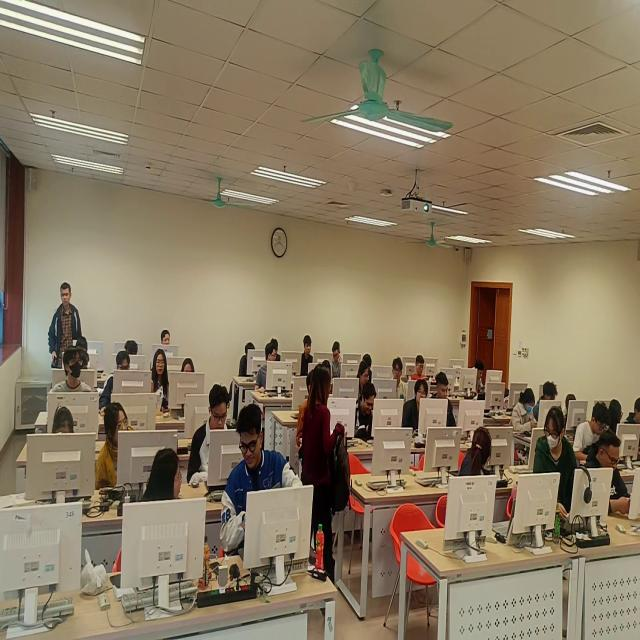raise_head: (96, 402, 136, 493), (49, 346, 93, 393), (298, 370, 315, 446), (403, 380, 429, 429), (153, 349, 170, 414), (393, 358, 408, 400), (162, 330, 171, 346)
stand: (302, 364, 352, 586), (534, 405, 577, 524), (48, 281, 83, 371)
using_computer: (188, 385, 231, 486), (585, 430, 633, 519), (574, 404, 611, 464), (100, 352, 132, 415), (432, 372, 457, 428), (355, 383, 378, 443), (511, 389, 538, 432), (534, 381, 559, 423), (53, 402, 75, 434), (75, 339, 91, 371), (609, 399, 624, 432), (302, 335, 314, 376), (474, 360, 488, 395), (412, 356, 429, 382), (624, 398, 640, 425), (333, 342, 344, 379), (358, 363, 369, 396), (564, 395, 577, 421), (182, 359, 196, 373), (126, 341, 139, 356), (324, 361, 332, 383)
